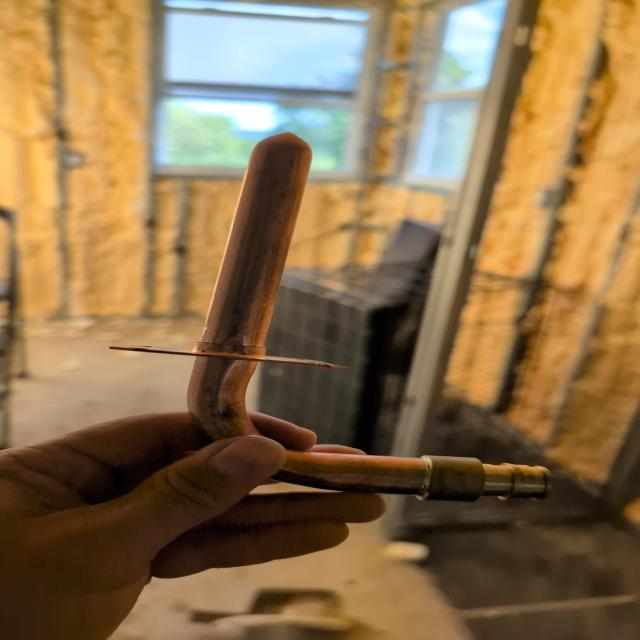wall_flange: (108, 115, 572, 518)
